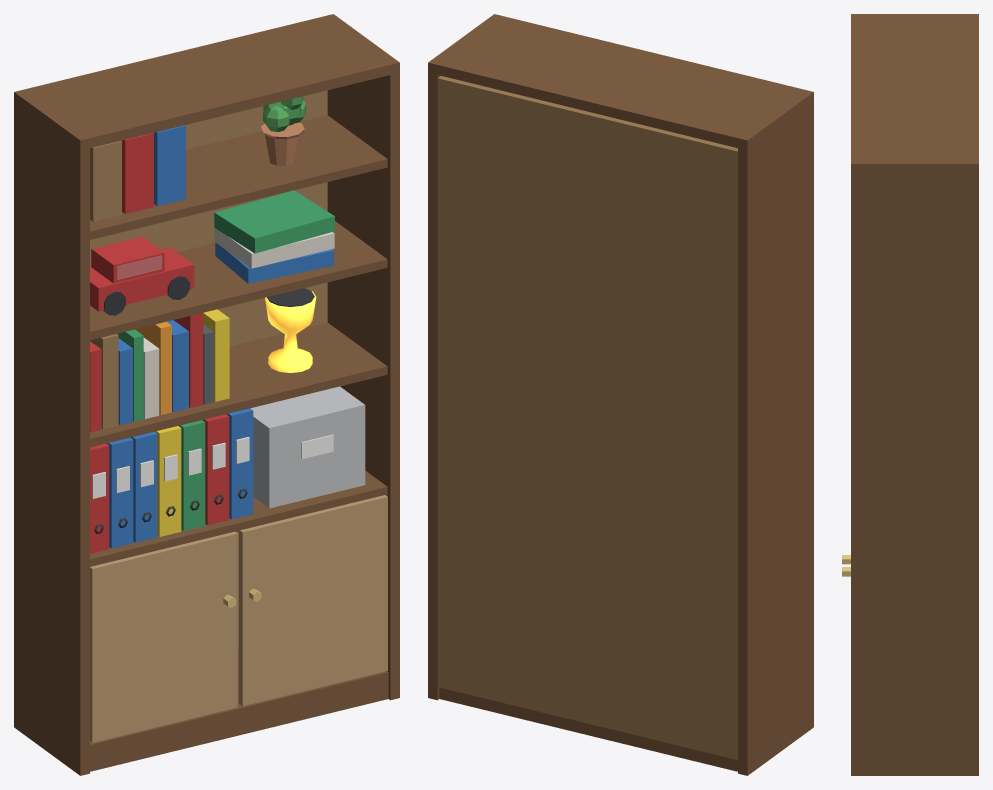
File: bookcase.glb
The picture shows the model from 3 angles, left to right: view 1: azimuth 30°, elevation 25°; view 2: azimuth 150°, elevation 25°; view 3: azimuth 270°, elevation 25°; orthographic projection. The views are drawn at different scales.
Parts seen in each view (by area): view 1: bookcase; view 2: bookcase; view 3: bookcase.
Part boxes in pixels (<box>): bookcase: <box>14,14,399,775</box>; bookcase: <box>428,14,813,775</box>; bookcase: <box>842,14,978,775</box>.
Size of the model in its own units: 1 by 1.9 by 0.385.
